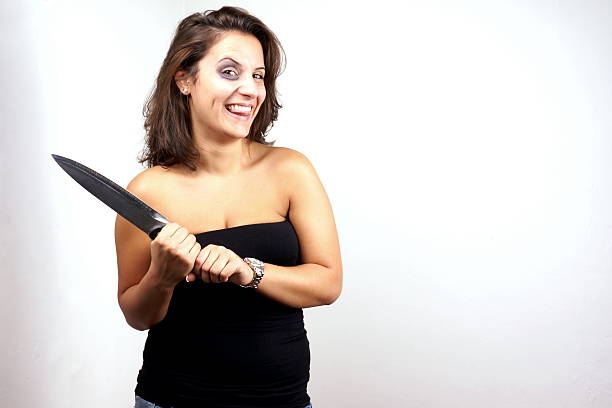knife: (48, 149, 172, 243)
